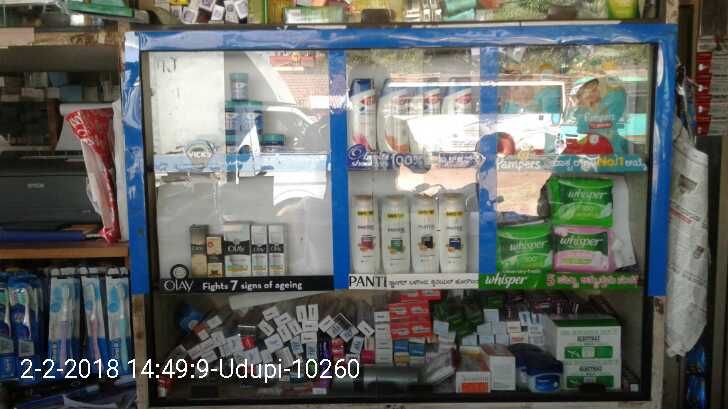beauty: (415, 66, 471, 157), (433, 189, 465, 277), (343, 77, 377, 149), (378, 76, 407, 154), (381, 202, 410, 275), (354, 197, 380, 273), (216, 223, 246, 275), (411, 202, 434, 269), (184, 225, 210, 284), (267, 222, 291, 279), (245, 218, 264, 275), (210, 231, 225, 273)
pharmacy: (555, 63, 631, 161), (498, 74, 561, 171), (543, 216, 615, 267), (41, 273, 76, 370), (547, 181, 618, 226), (81, 276, 110, 376), (16, 270, 40, 386), (104, 277, 132, 376), (498, 222, 551, 272), (238, 100, 265, 137), (217, 98, 237, 134), (231, 72, 249, 96)
